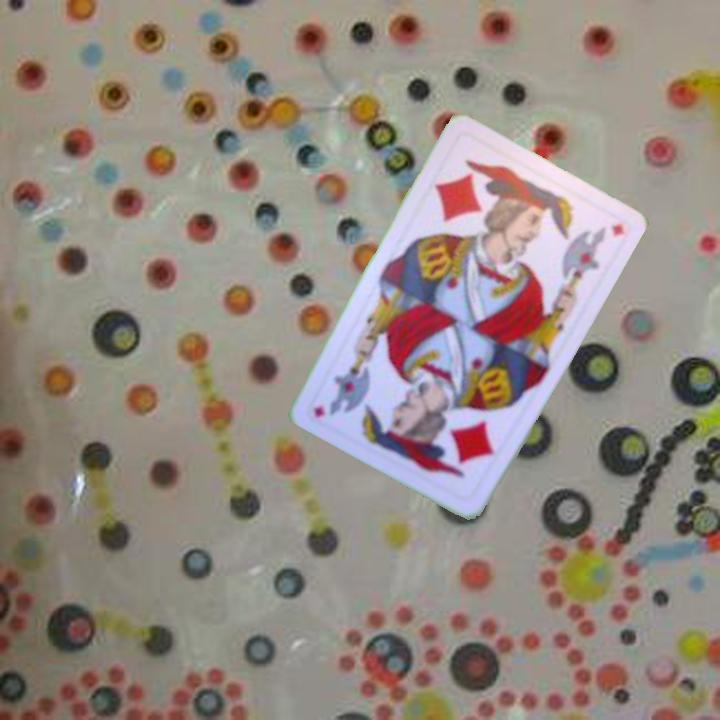d_j.png: (420, 130, 547, 252), (386, 382, 513, 503)
